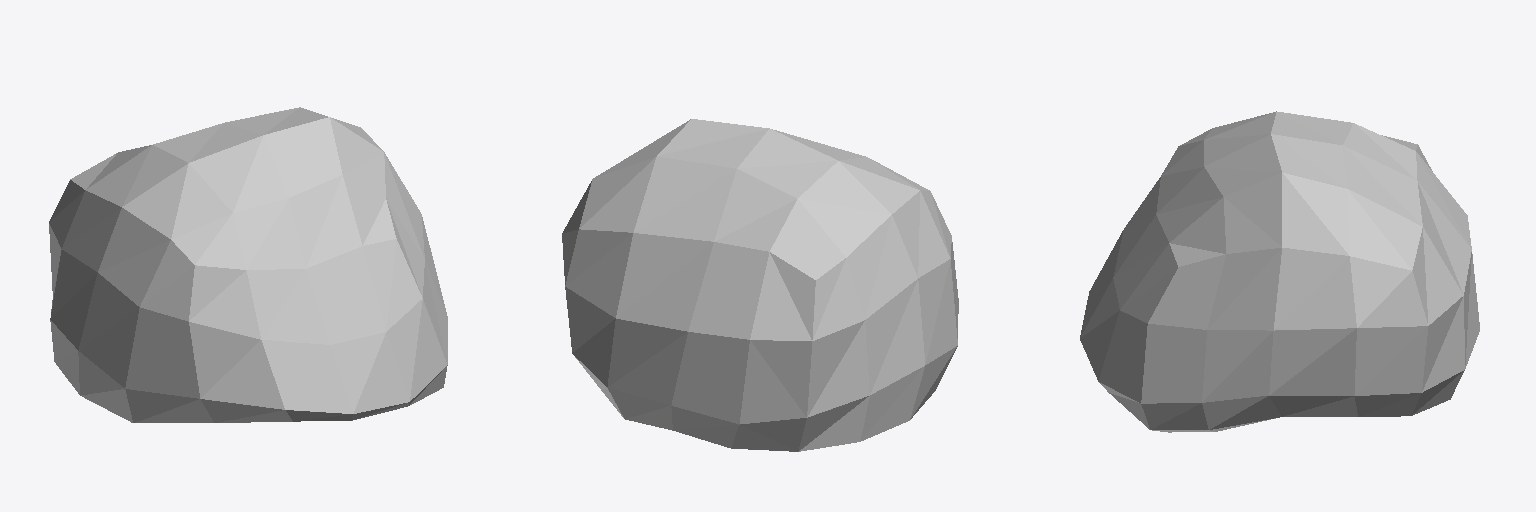
File: Rock_A_02_LOD1.obj
3 renders of one model, left to right at view 1: azimuth 30°, elevation 25°; view 2: azimuth 150°, elevation 25°; view 3: azimuth 270°, elevation 25°, orthographic.
Visible parts, largest first — view 1: Rock_A_02_LOD1_Cube.539; view 2: Rock_A_02_LOD1_Cube.539; view 3: Rock_A_02_LOD1_Cube.539.
Boxes of the visible parts, <box> form: Rock_A_02_LOD1_Cube.539: <box>49,107,447,422</box>; Rock_A_02_LOD1_Cube.539: <box>562,119,958,451</box>; Rock_A_02_LOD1_Cube.539: <box>1080,111,1479,432</box>.
Bounding box in the file's own units: 3.43 × 2.41 × 3.55.